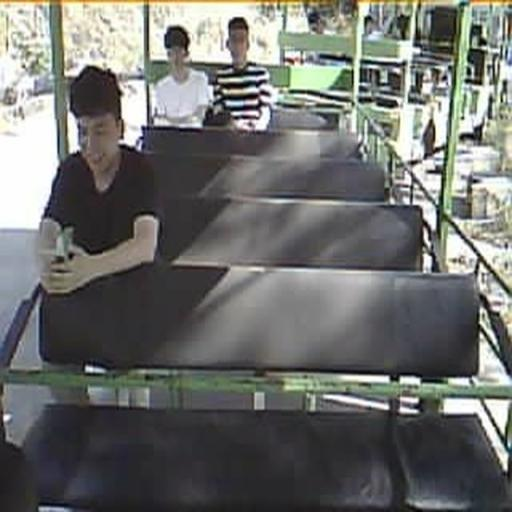persona: (38, 63, 164, 295), (211, 16, 275, 133), (150, 25, 214, 129)
